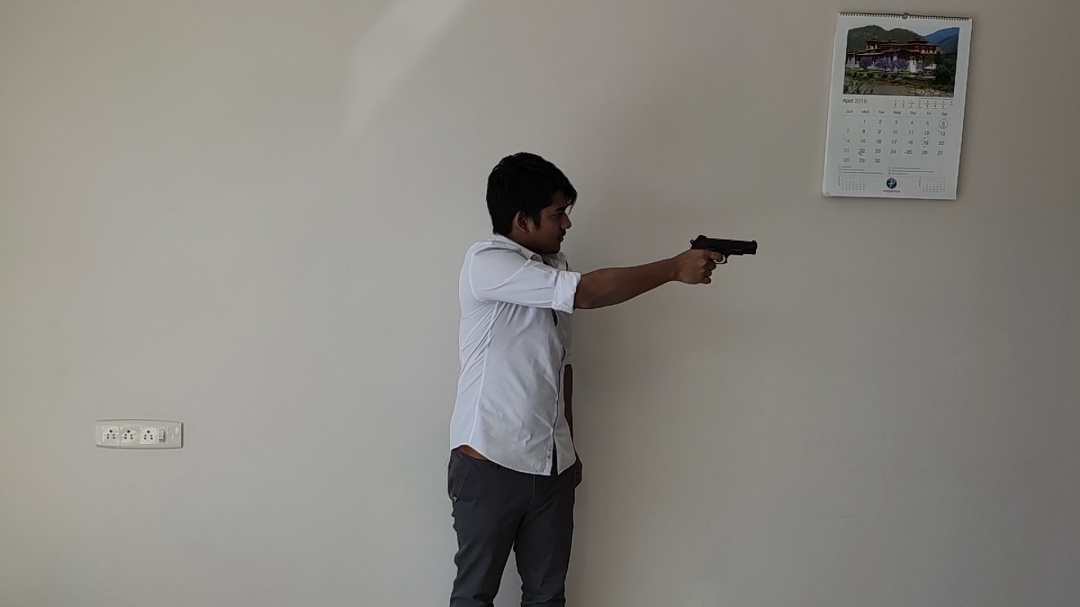gun: (688, 235, 758, 263)
